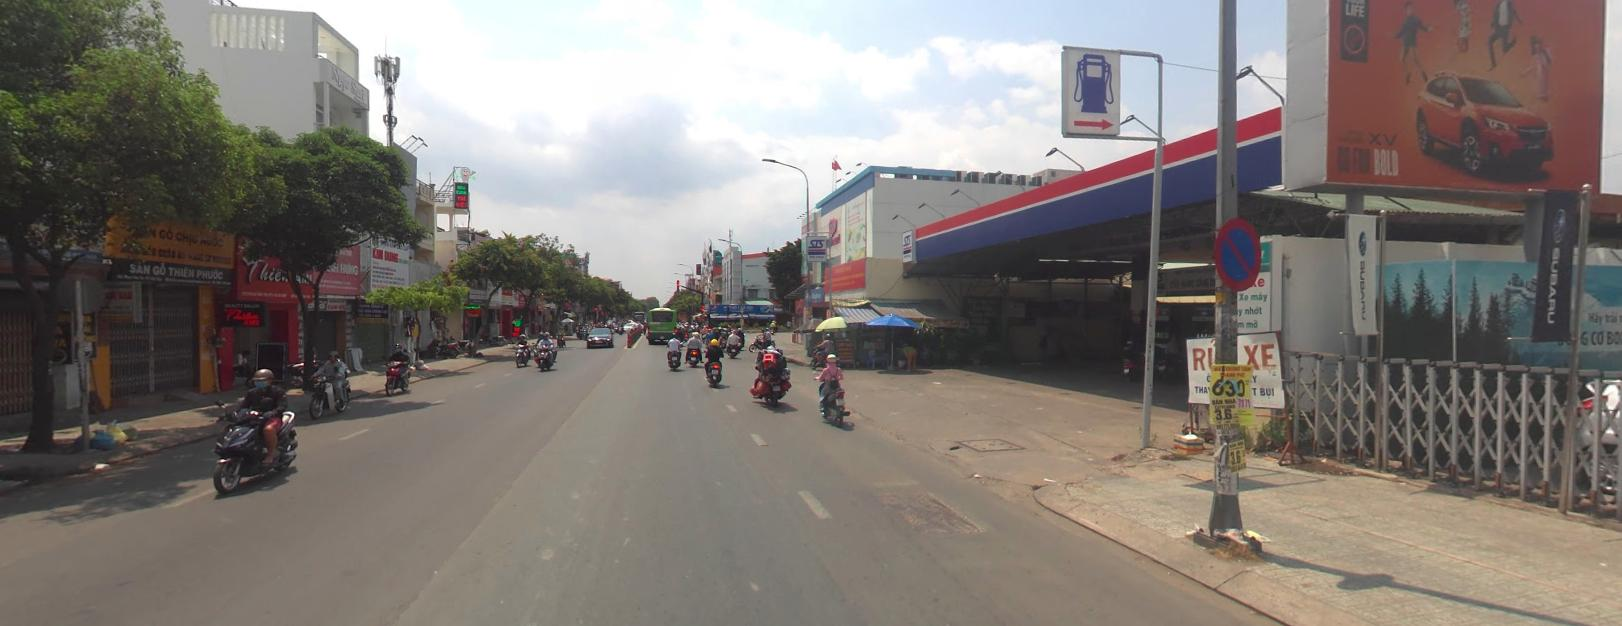Cam dung va do: (1212, 216, 1261, 289)
